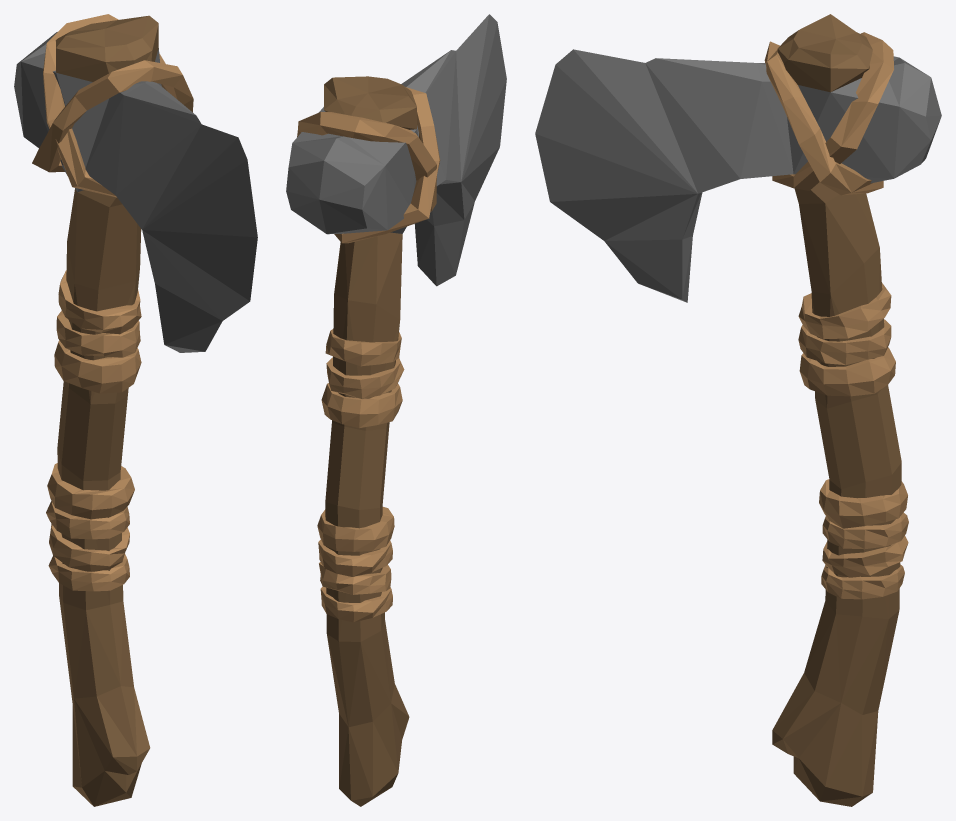
The model's file is SFNP_Axe_002.fbx.
3 views of the same model, side by side, from view 1: azimuth 30°, elevation 25°; view 2: azimuth 150°, elevation 25°; view 3: azimuth 270°, elevation 25° (orthographic). The views are drawn at different scales.
Parts seen in each view (by area): view 1: SFNP_Axe_002; view 2: SFNP_Axe_002; view 3: SFNP_Axe_002.
Boxes of the visible parts, x1,y1,x2,y2 form: SFNP_Axe_002: [14, 14, 257, 806]; SFNP_Axe_002: [286, 14, 506, 806]; SFNP_Axe_002: [535, 14, 941, 806].
Bounding box in the file's own units: 7.1 × 35.74 × 17.05.
